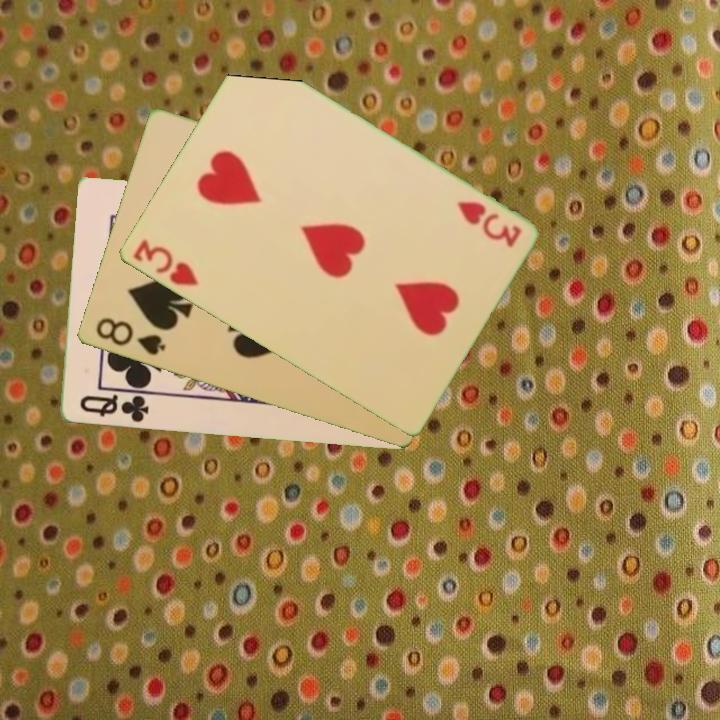3h: (129, 235, 201, 289), (452, 198, 524, 251)
8s: (91, 314, 168, 359)
Qc: (75, 391, 152, 426)
